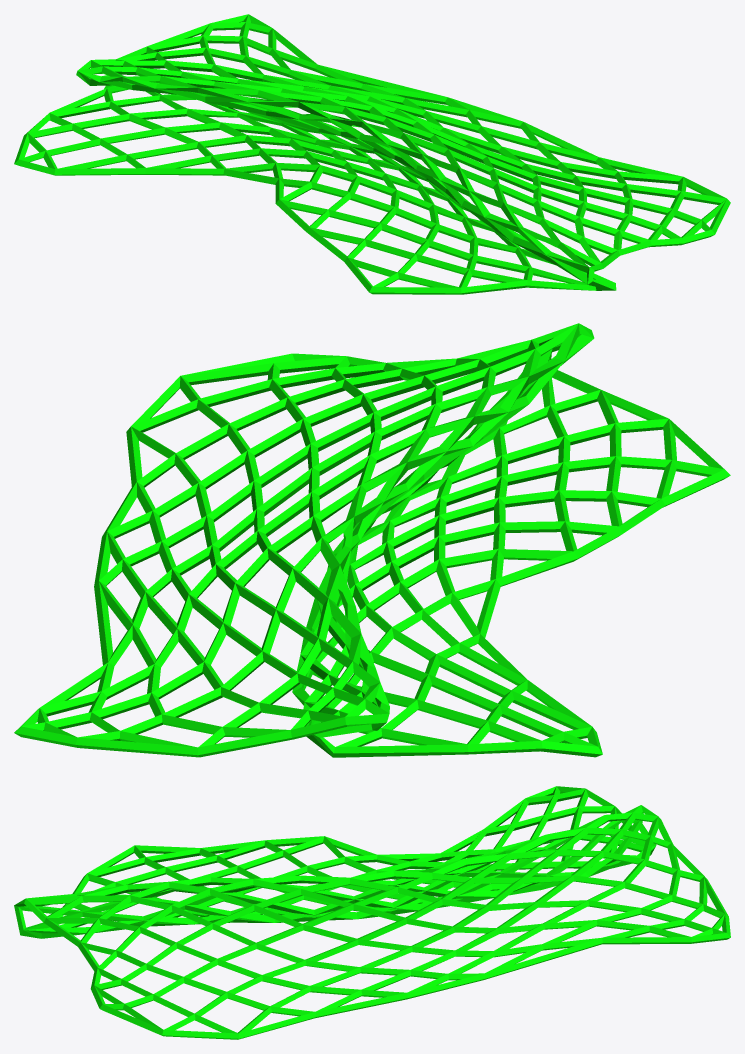
The model's file is SM_Fishing_Net_Folded_A.fbx.
The picture shows the model from 3 angles, top to bottom: view 1: azimuth 30°, elevation 25°; view 2: azimuth 150°, elevation 25°; view 3: azimuth 270°, elevation 25°; orthographic projection. The views are drawn at different scales.
Parts seen in each view (by area): view 1: fishing-net-folded-a; view 2: fishing-net-folded-a; view 3: fishing-net-folded-a.
Part boxes in pixels (x1,y1,x2,y2): fishing-net-folded-a: (14,14,730,294); fishing-net-folded-a: (14,323,730,757); fishing-net-folded-a: (14,786,730,1039).
Size of the model in its own units: 2.15 by 0.2573 by 2.75.
